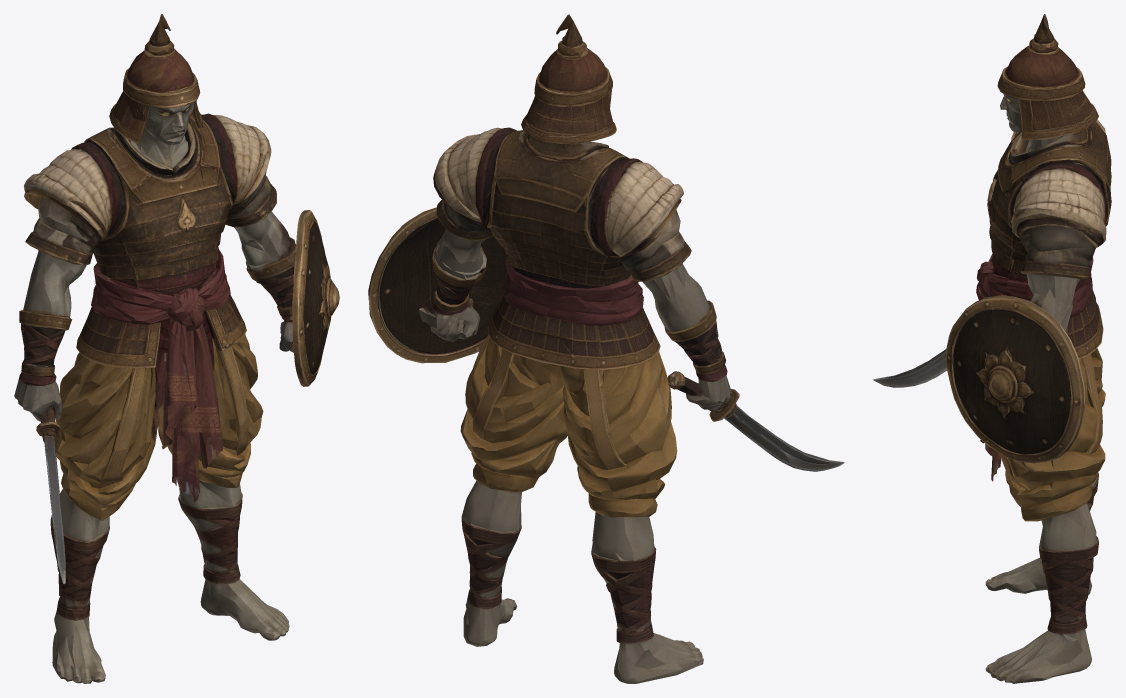
Rendered from soldier.glb.
3 views of the same model, side by side, from view 1: azimuth 30°, elevation 25°; view 2: azimuth 150°, elevation 25°; view 3: azimuth 270°, elevation 25° (orthographic). The views are drawn at different scales.
Visible parts, largest first — view 1: soldierSource; view 2: soldierSource; view 3: soldierSource.
Boxes of the visible parts, x1,y1,x2,y2 form: soldierSource: (14, 14, 339, 683); soldierSource: (368, 14, 844, 683); soldierSource: (873, 14, 1111, 683).
Size of the model in its own units: 1.16 by 1.9 by 0.6633.
1 material, 1 textured.
